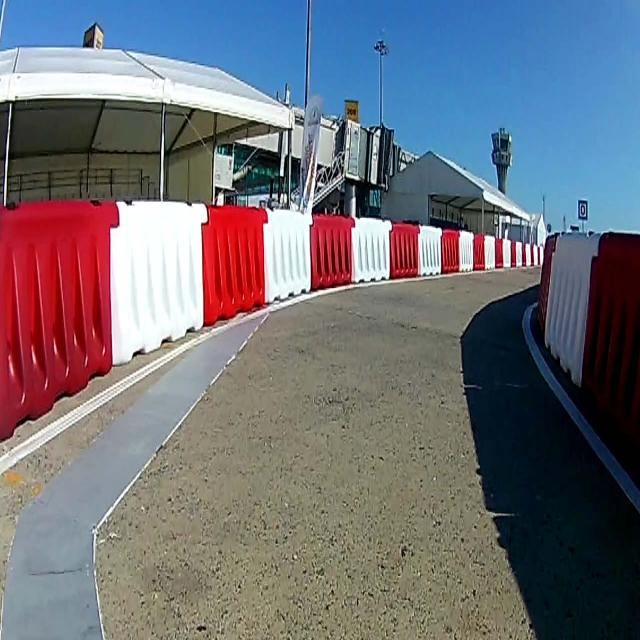durak: (578, 200, 586, 218)
